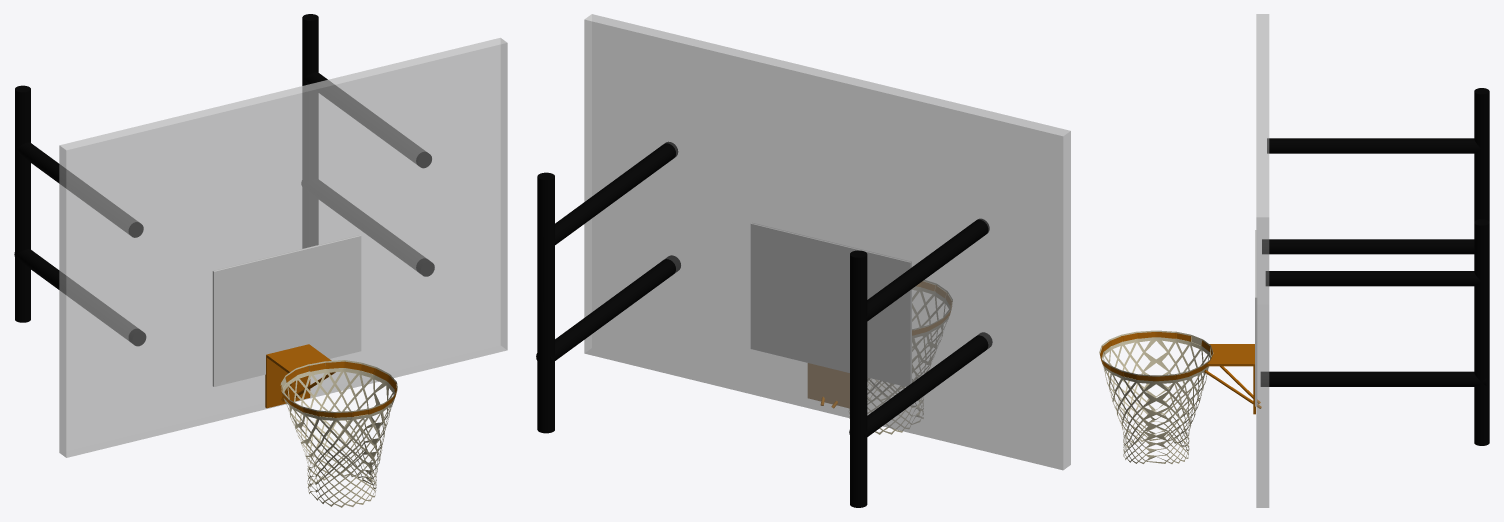
Rendered from basketball-hoop-01.fbx.
The picture shows the model from 3 angles, left to right: view 1: azimuth 30°, elevation 25°; view 2: azimuth 150°, elevation 25°; view 3: azimuth 270°, elevation 25°; orthographic projection. The views are drawn at different scales.
Visible parts, largest first — view 1: pCube1, pCube2, pCylinder1, pCylinder41, pCylinder10, pCylinder42, pCylinder8, pCylinder40, pCylinder9, pCube4, pCube3; view 2: pCube1, pCube2, pCylinder41, pCylinder10, pCylinder42, pCylinder8, pCylinder40, pCylinder9, pCylinder1, pCube4; view 3: pCylinder1, pCube1, pCylinder42, pCylinder41, pCylinder40, pCylinder8, pCylinder9, pCylinder10, pCube3, pCube2.
Boxes of the visible parts, x1,y1,x2,y2 form: pCube1: (59, 37, 507, 457); pCube2: (212, 235, 361, 386); pCylinder1: (280, 360, 397, 507); pCylinder41: (302, 14, 318, 248); pCylinder10: (15, 85, 30, 322); pCylinder42: (301, 179, 434, 276); pCylinder8: (14, 249, 146, 346); pCylinder40: (303, 72, 431, 168); pCylinder9: (16, 142, 143, 237); pCube4: (265, 355, 310, 408); pCube3: (266, 344, 331, 373); pCube1: (584, 14, 1070, 470); pCube2: (750, 223, 911, 386); pCylinder41: (537, 172, 554, 433); pCylinder10: (850, 250, 867, 507); pCylinder42: (536, 255, 680, 363); pCylinder8: (849, 332, 992, 438); pCylinder40: (554, 141, 678, 244); pCylinder9: (866, 218, 989, 321); pCylinder1: (849, 280, 952, 434); pCube4: (808, 363, 849, 408); pCylinder1: (1099, 330, 1213, 463); pCube1: (1256, 14, 1269, 507); pCylinder42: (1260, 371, 1486, 386); pCylinder41: (1474, 219, 1489, 445); pCylinder40: (1265, 271, 1481, 286); pCylinder8: (1262, 239, 1474, 254); pCylinder9: (1267, 138, 1480, 153); pCylinder10: (1474, 88, 1489, 221); pCube3: (1207, 344, 1254, 366); pCube2: (1255, 230, 1257, 406).
Size of the model in its own units: 1.83 by 1.42 by 1.48.
